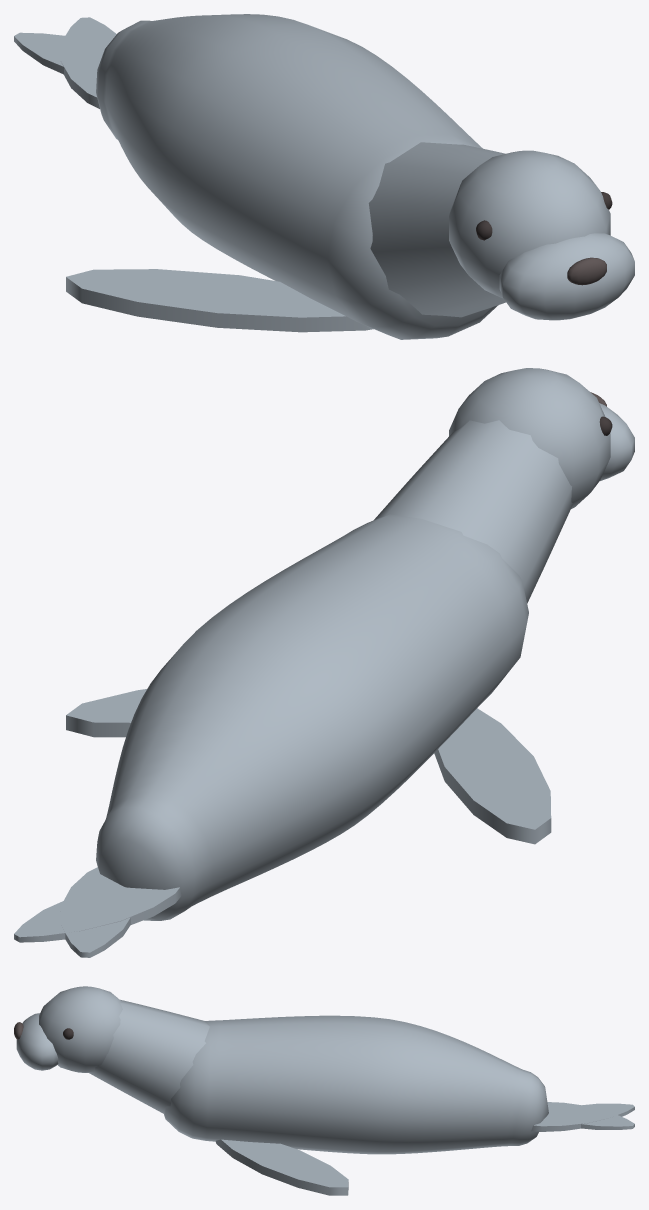
File: polar-tundra-and-alpine-fauna-harp-seal-4c19a3da__6070.glb
3 views of the same model, one above another, from view 1: azimuth 30°, elevation 25°; view 2: azimuth 150°, elevation 25°; view 3: azimuth 270°, elevation 25° (orthographic). The views are drawn at different scales.
Visible parts, largest first — view 1: harp-seal; view 2: harp-seal; view 3: harp-seal.
Boxes of the visible parts, x1=… form: harp-seal: x1=14, y1=14, x2=634, y2=339; harp-seal: x1=14, y1=368, x2=634, y2=957; harp-seal: x1=14, y1=986, x2=634, y2=1195.
Size of the model in its own units: 0.85 by 0.4717 by 1.7.
